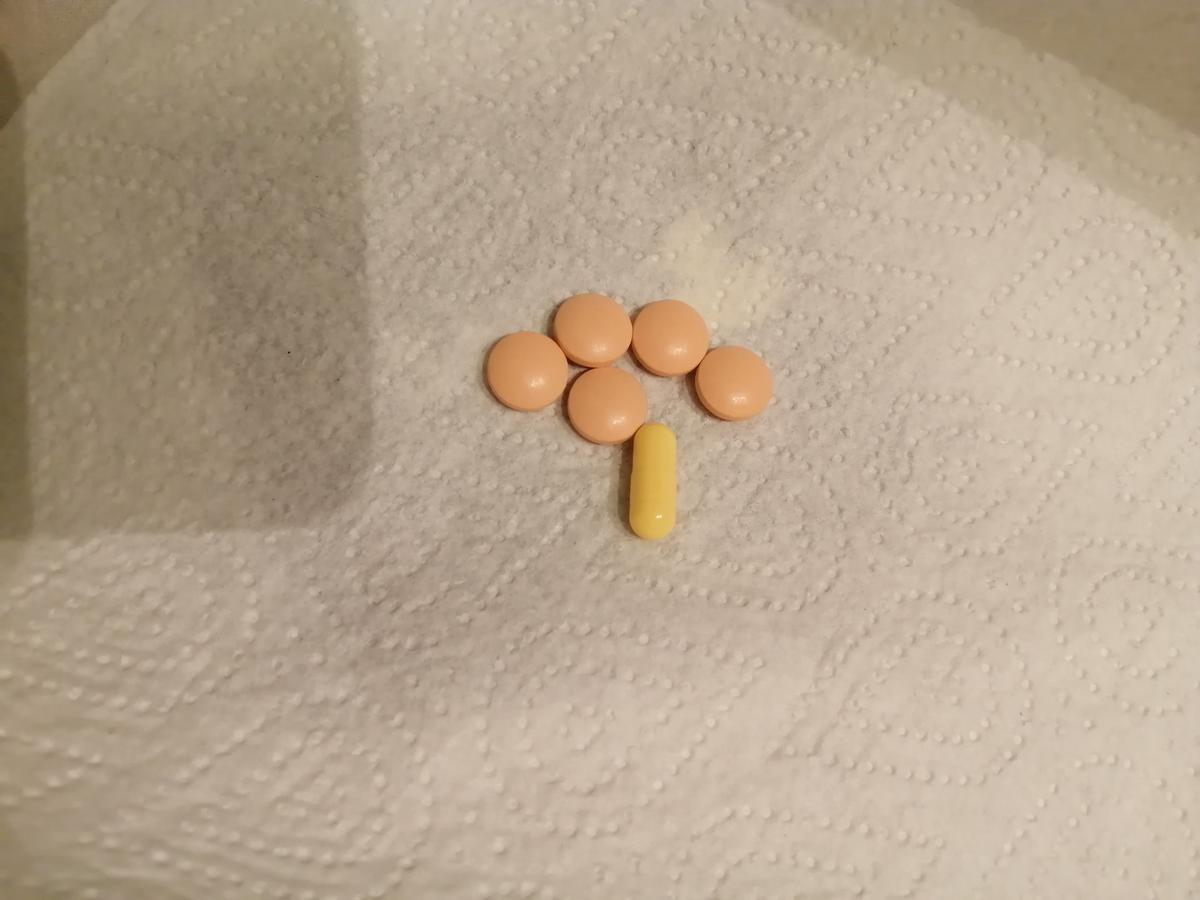capsule: (629, 423, 681, 544)
tablet: (565, 365, 650, 445), (552, 284, 633, 365), (485, 330, 567, 410), (633, 299, 709, 378), (696, 343, 772, 422)
